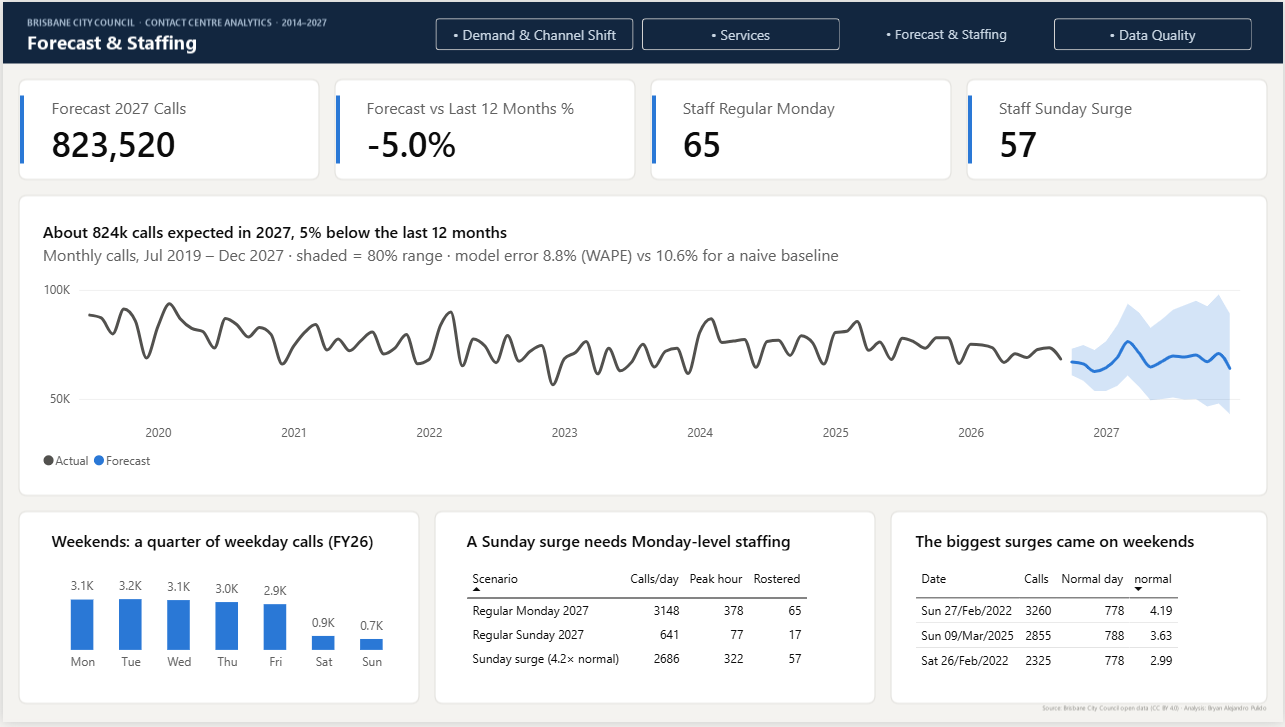

What the dashboard file says about the page in this screenshot:
{"tool":"powerbi","page":{"name":"• Forecast & Staffing","canvas":[1280,720],"ordinal":2},"visuals":[{"type":"cardVisual","fields":{"Data":["_Measures.Forecast vs Last 12 Months %"]},"box":[348,88,276,84],"z":0},{"type":"cardVisual","fields":{"Data":["_Measures.Staff Regular Monday"]},"box":[664,88,276,84],"z":1},{"type":"cardVisual","fields":{"Data":["_Measures.Forecast 2027 Calls"]},"box":[32,88,276,84],"z":2},{"type":"cardVisual","fields":{"Data":["_Measures.Staff Sunday Surge"]},"box":[980,88,276,84],"z":3},{"type":"lineChart","title":"About 824k calls expected in 2027, 5% below the last 12 months","fields":{"Category":["bi forecast_monthly.month_start"],"Y":["Sum(bi forecast_monthly.actual_calls)","Sum(bi forecast_monthly.forecast_calls)"]},"box":[24,204,1232,284],"z":4},{"type":"clusteredColumnChart","title":"Weekends: a quarter of weekday calls (FY26)","fields":{"Category":["bi dim_date.weekday"],"Y":["_Measures.Avg Calls per Day"]},"box":[32,512,384,176],"z":5},{"type":"tableEx","title":"A Sunday surge needs Monday-level staffing","fields":{"Values":["bi staffing_scenario.scenario","bi staffing_scenario.daily_calls","bi staffing_scenario.peak_hour_calls","bi staffing_scenario.rostered_staff"]},"box":[448,512,424,176],"z":6},{"type":"tableEx","title":"The biggest surges came on weekends","fields":{"Values":["bi surge_days.enquiry_date","bi surge_days.calls","bi surge_days.typical_calls","bi surge_days.times_typical"]},"box":[896,512,360,176],"z":7},{"type":"pageNavigator","box":[432,16,816,32],"z":9}]}

Visuals, with their boxes in screenshot pixels (x1, y1, x2, y2), scaled from the page's 1280x720 canvas onto the 1285x727 screenshot:
cardVisual - _Measures.Forecast vs Last 12 Months %: 349,89,626,174
cardVisual - _Measures.Staff Regular Monday: 667,89,944,174
cardVisual - _Measures.Forecast 2027 Calls: 32,89,309,174
cardVisual - _Measures.Staff Sunday Surge: 984,89,1261,174
"About 824k calls expected in 2027, 5% below the last 12 months" lineChart: 24,206,1261,493
"Weekends: a quarter of weekday calls (FY26)" clusteredColumnChart: 32,517,418,695
"A Sunday surge needs Monday-level staffing" tableEx: 450,517,875,695
"The biggest surges came on weekends" tableEx: 900,517,1261,695
pageNavigator: 434,16,1253,48
